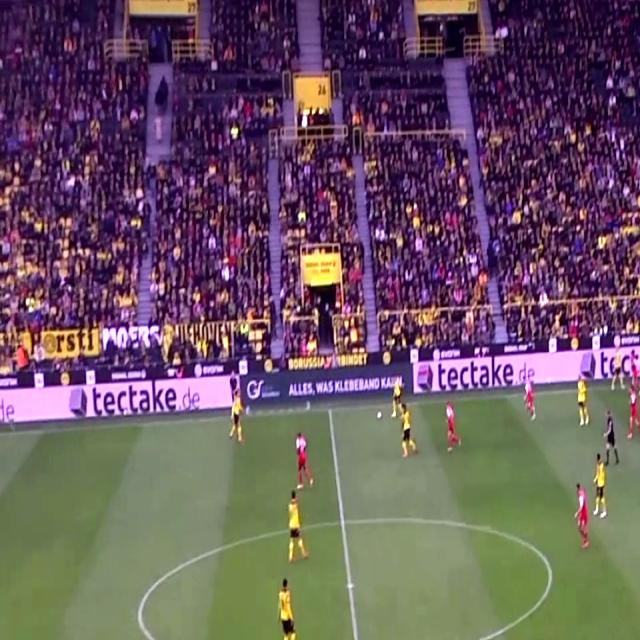ball: (374, 408, 386, 422)
referee: (603, 403, 624, 472)
soccer-player: (284, 481, 310, 568), (272, 567, 302, 640), (290, 422, 316, 500), (570, 474, 594, 558), (226, 362, 247, 449), (590, 446, 611, 520), (522, 355, 542, 424), (400, 394, 420, 462), (443, 397, 463, 457), (386, 366, 405, 424), (574, 367, 590, 433), (628, 371, 640, 447)
